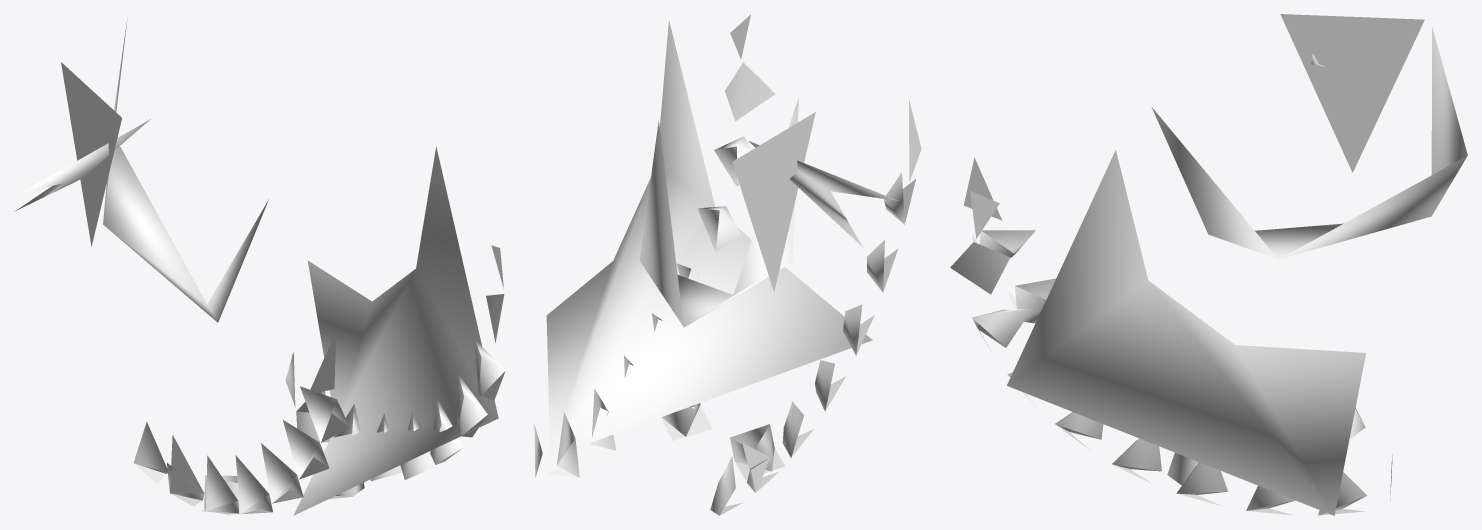
3 views of the same model, side by side, from view 1: azimuth 30°, elevation 25°; view 2: azimuth 150°, elevation 25°; view 3: azimuth 270°, elevation 25° (orthographic).
Size of the model in its own units: 0.7083 by 0.8636 by 0.9568.
1 material, 1 textured.
